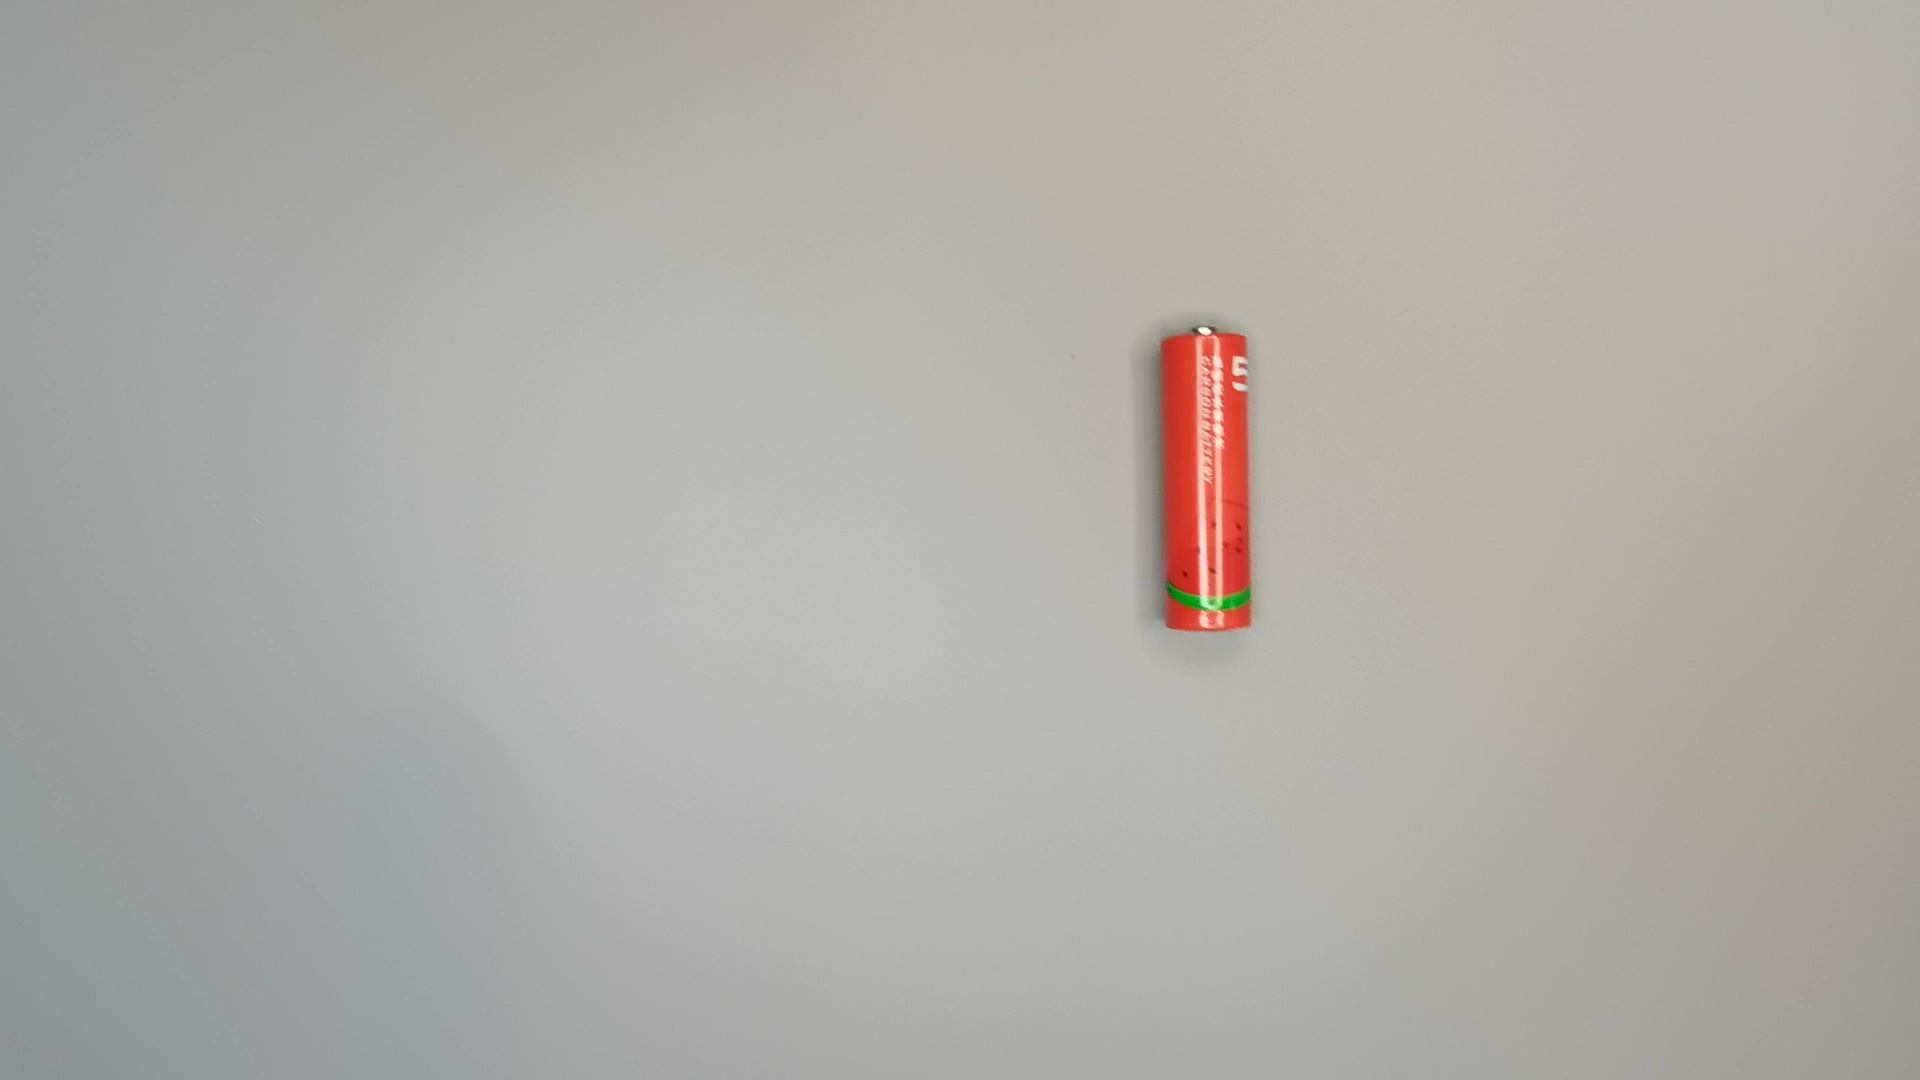battery: (1149, 315, 1271, 640)
